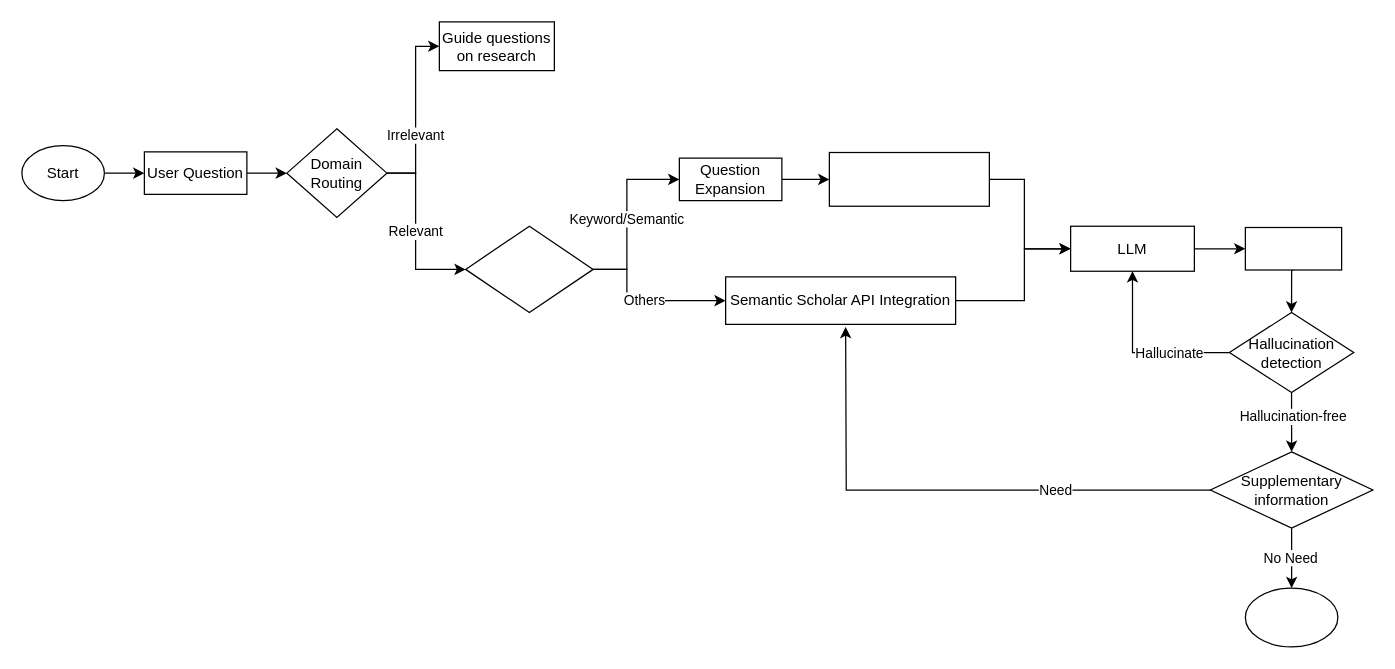
The diagram is 1395 pixels wide and 669 high, and some of its shapes have lost their labels. Each missing label, with the box of its shape:
Answer: (1244, 226, 1342, 270)
End: (1244, 587, 1338, 647)
Query Routing: (464, 225, 593, 312)
Vector-based retrieval: (828, 151, 989, 206)
